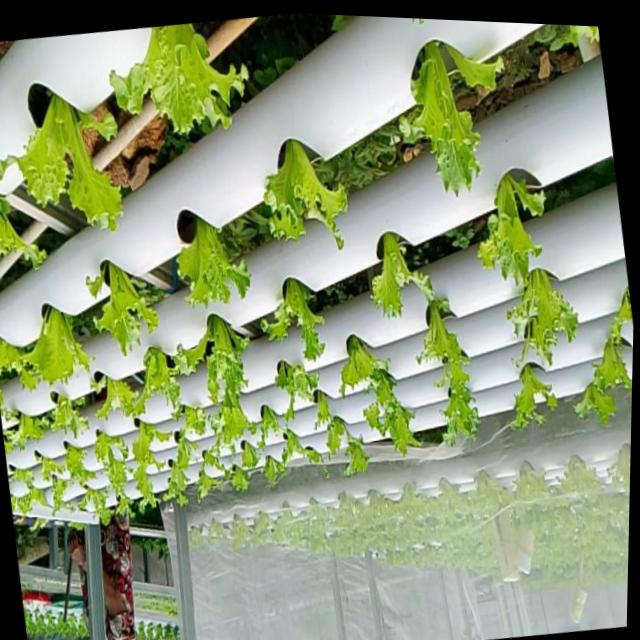Baby: (0, 98, 121, 233), (108, 25, 246, 136), (400, 41, 480, 197), (263, 139, 347, 250), (417, 292, 478, 444), (476, 173, 544, 285), (175, 210, 249, 307), (506, 269, 577, 366), (90, 261, 157, 355), (23, 307, 93, 389), (370, 232, 433, 317), (260, 278, 324, 361), (363, 369, 420, 455), (124, 345, 187, 418), (93, 431, 132, 513), (265, 360, 318, 420), (591, 321, 632, 395), (511, 363, 556, 429), (208, 388, 255, 451), (338, 335, 387, 395), (77, 488, 110, 524), (64, 445, 92, 486), (201, 445, 224, 477), (183, 406, 205, 435), (50, 476, 67, 513)
